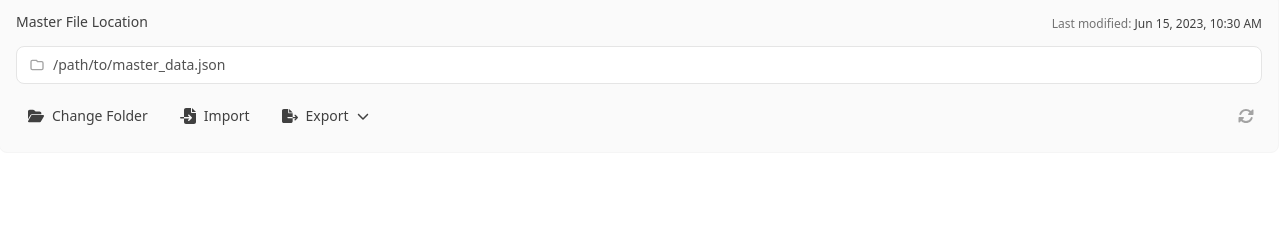
Test case: FileLocationSection › Export Dropdown › should toggle dropdown on multiple clicks
Open dropdown
Click the button "Export": coordinates (325, 116) [270, 98, 381, 134]
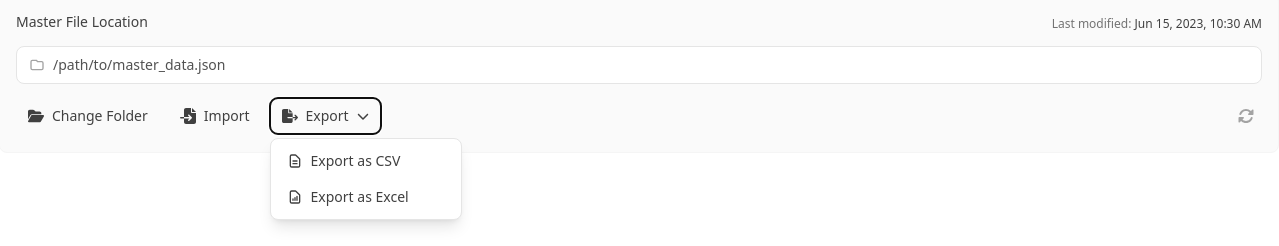
Result: the button "Export as CSV" is shown at [271, 143, 461, 179]
Close dropdown
Click the button "Export": coordinates (325, 116) [270, 98, 381, 134]
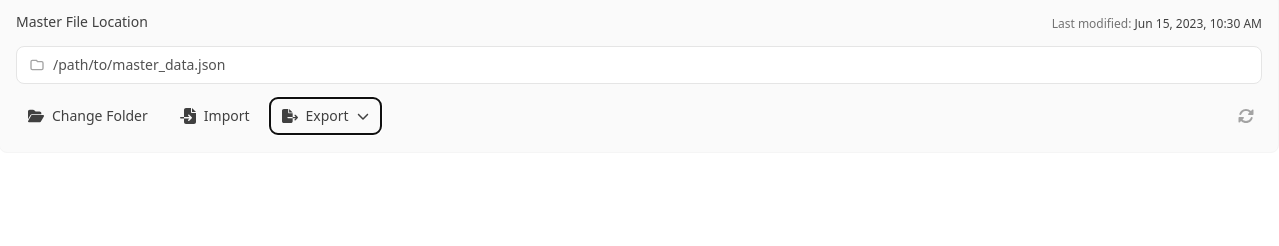
Result: the button "Export as CSV" is gone
